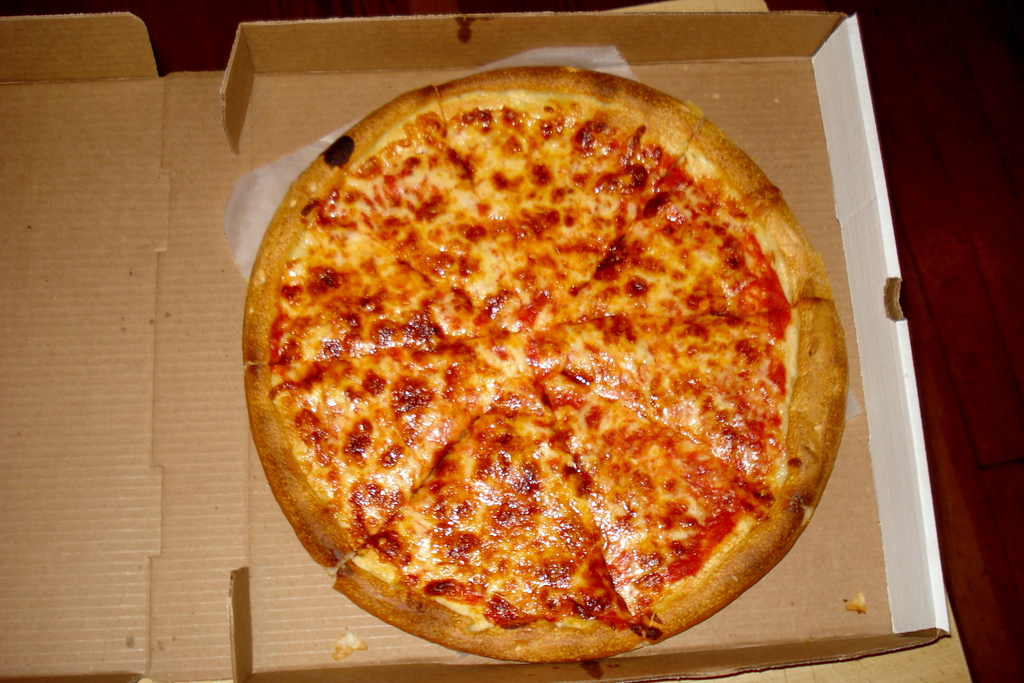Pizza: (260, 55, 845, 674)
